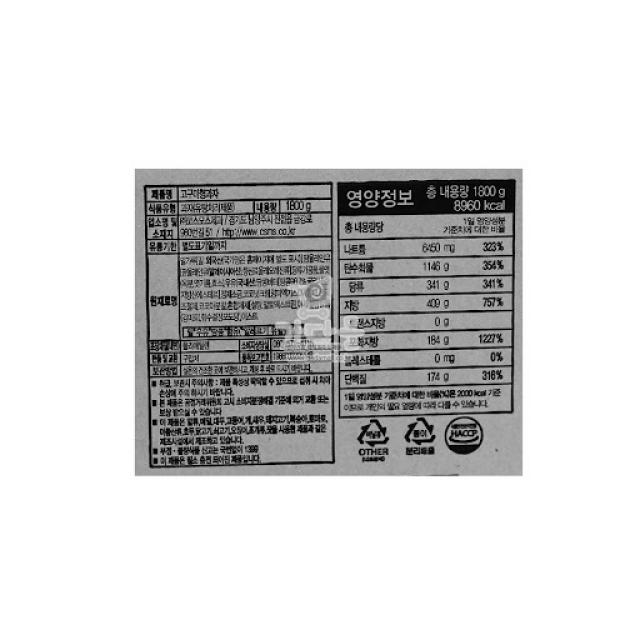Nutrition Label: (335, 174, 520, 425)
